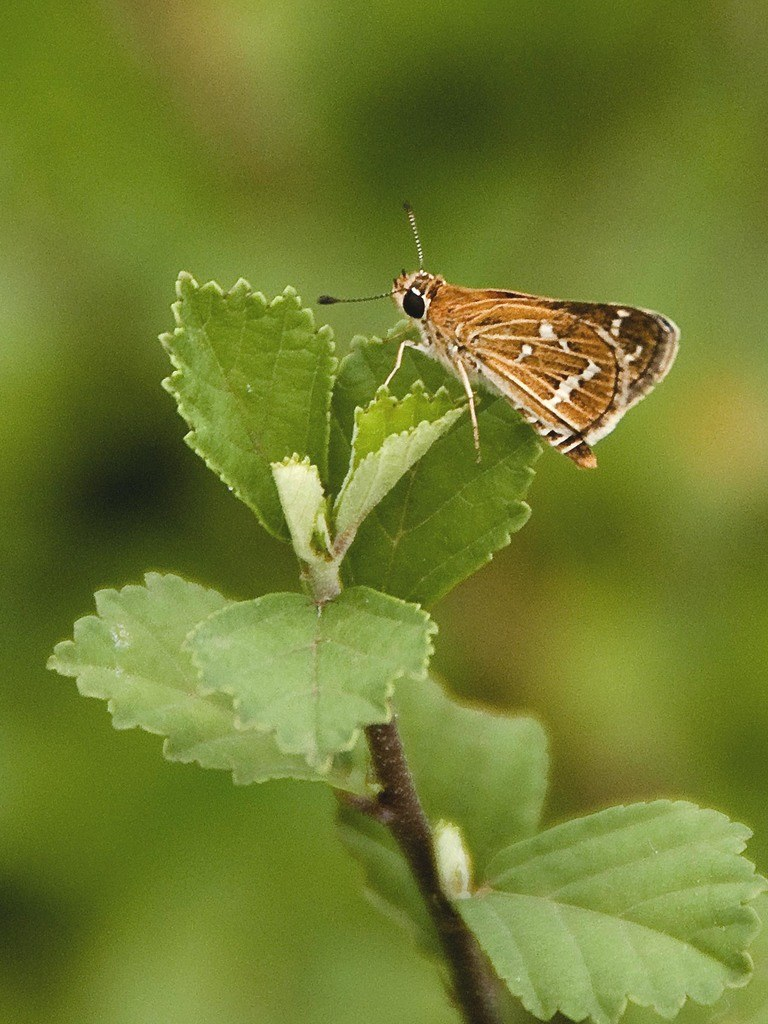insect: (314, 200, 681, 469)
